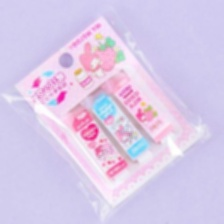carton: (88, 89, 151, 163), (71, 107, 134, 181), (112, 75, 174, 145)
